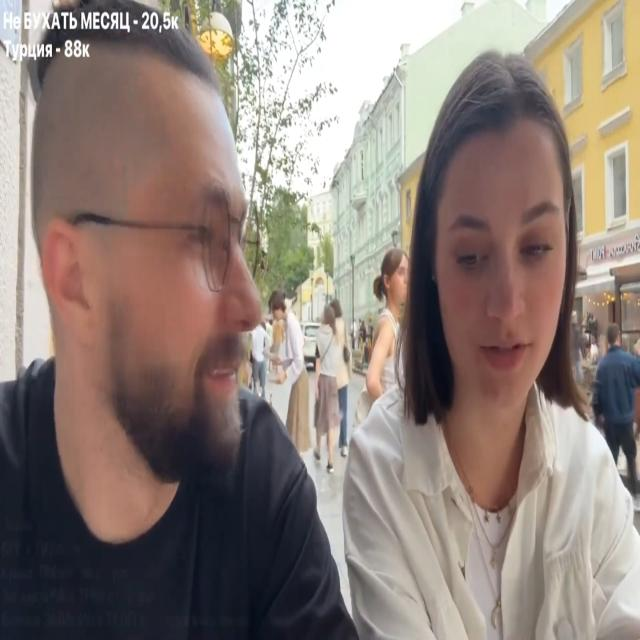Person: (0, 11, 377, 636), (334, 76, 640, 640), (592, 323, 640, 496), (362, 249, 408, 423), (313, 294, 352, 476), (265, 290, 310, 442)
